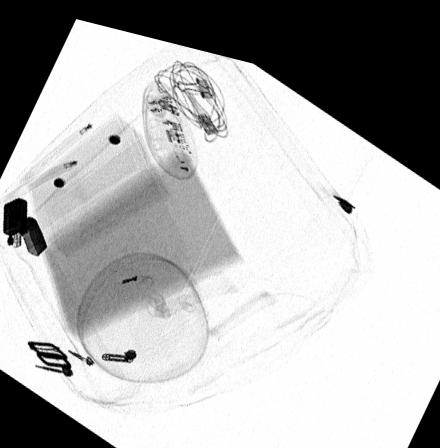Lighter: (4, 196, 49, 254)
